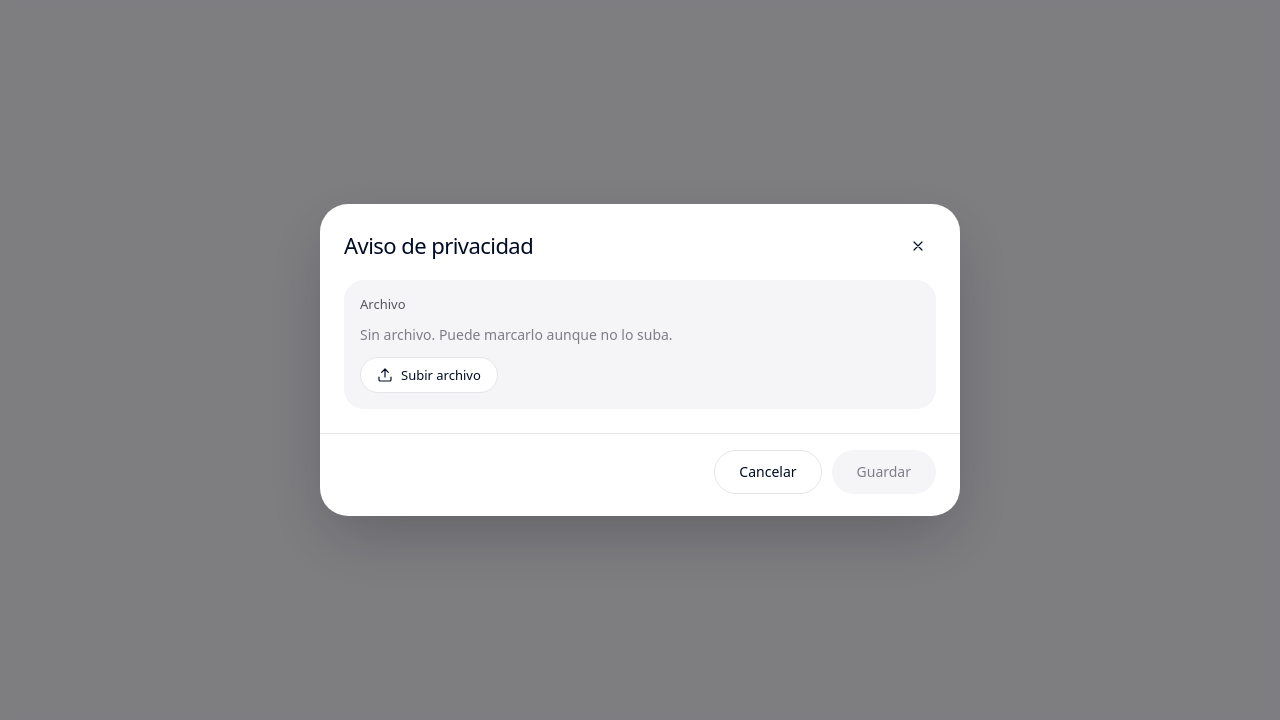
Scenario: RecordWindow › a document already being read is not read twice
Click the button "Subir archivo" at (429, 375), box [360,357,498,393]
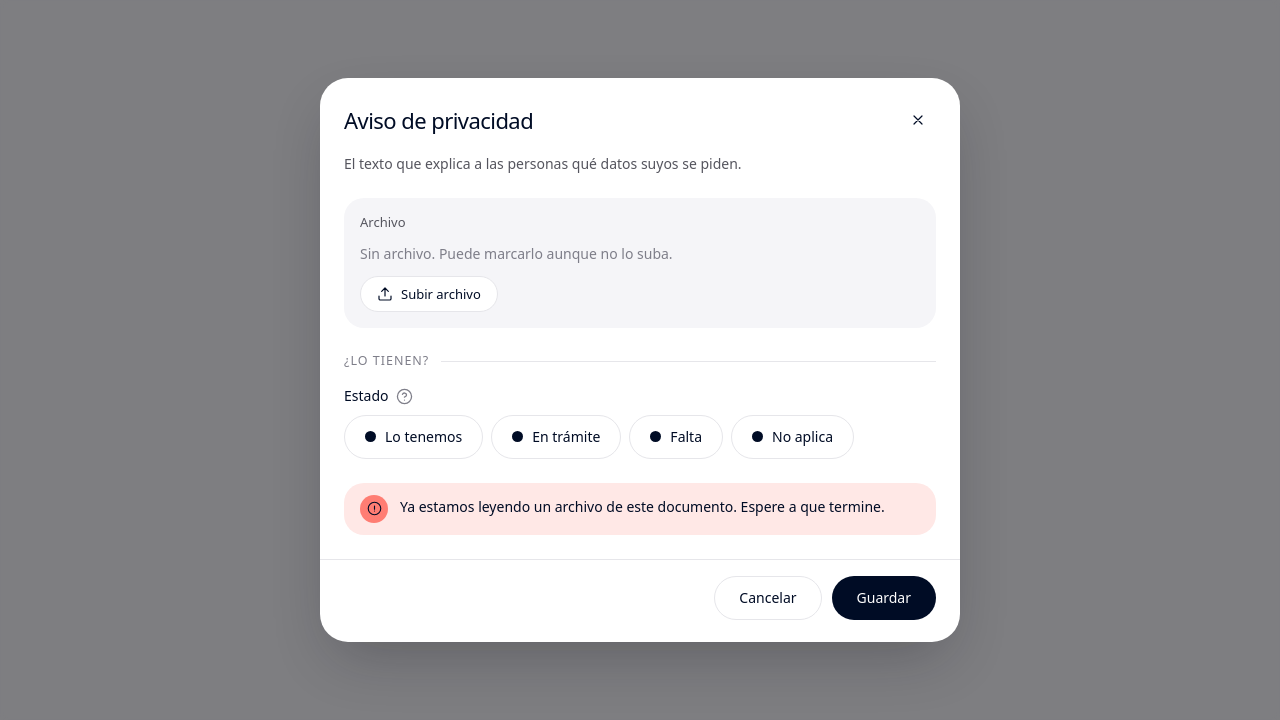
Check: the text "Ya estamos leyendo un archivo de este documento. Espere a que termine." is shown, box [400,495,920,517]
